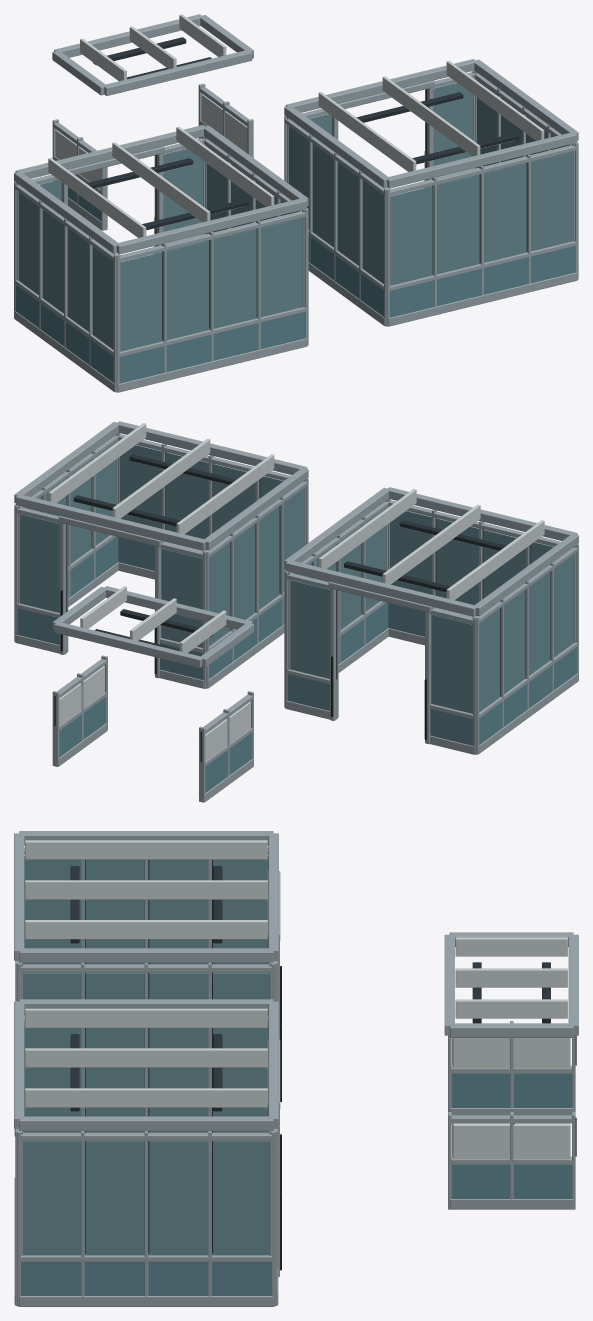
File: SF_W03_Interior.fbx
The picture shows the model from 3 angles, top to bottom: view 1: azimuth 30°, elevation 25°; view 2: azimuth 150°, elevation 25°; view 3: azimuth 270°, elevation 25°; orthographic projection. The views are drawn at different scales.
Parts seen in each view (by area): view 1: SF_W03_Interior; view 2: SF_W03_Interior; view 3: SF_W03_Interior.
Part boxes in pixels (x1,y1,x2,y2): SF_W03_Interior: [14, 14, 578, 392]; SF_W03_Interior: [14, 421, 578, 802]; SF_W03_Interior: [14, 831, 578, 1306].
Bounding box in the file's own units: 1051 × 334 × 866.
